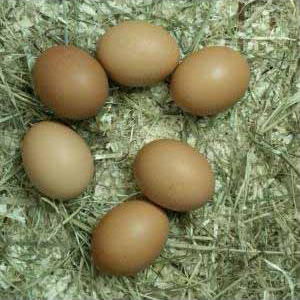egg: (88, 197, 171, 275), (133, 139, 216, 213), (21, 121, 96, 202), (32, 45, 110, 122), (170, 47, 251, 116), (97, 22, 180, 89)
